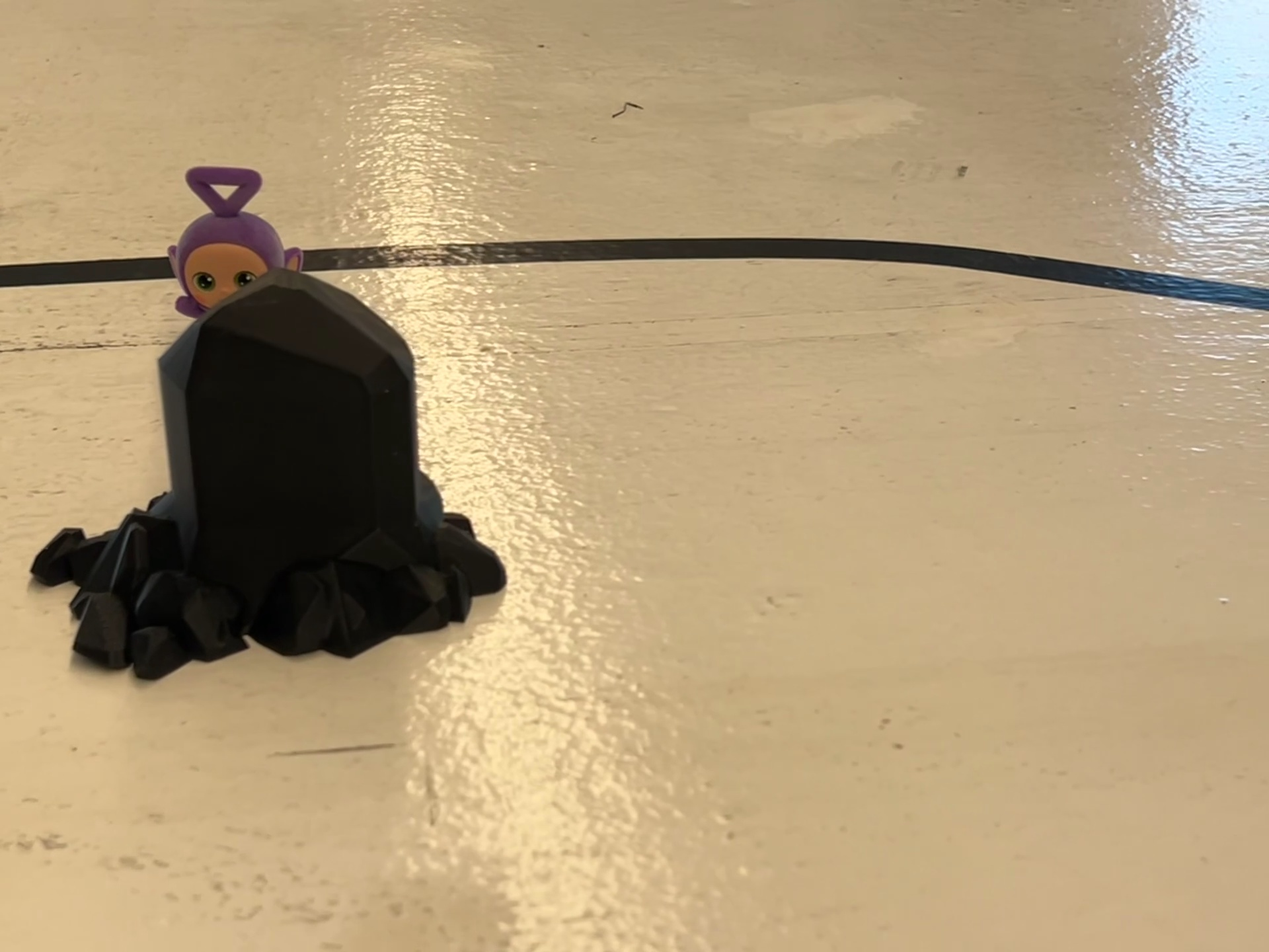teletubby: (168, 167, 302, 317)
